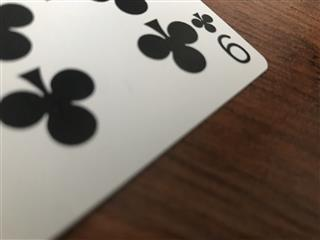NineOfClubs: (1, 1, 269, 240)
